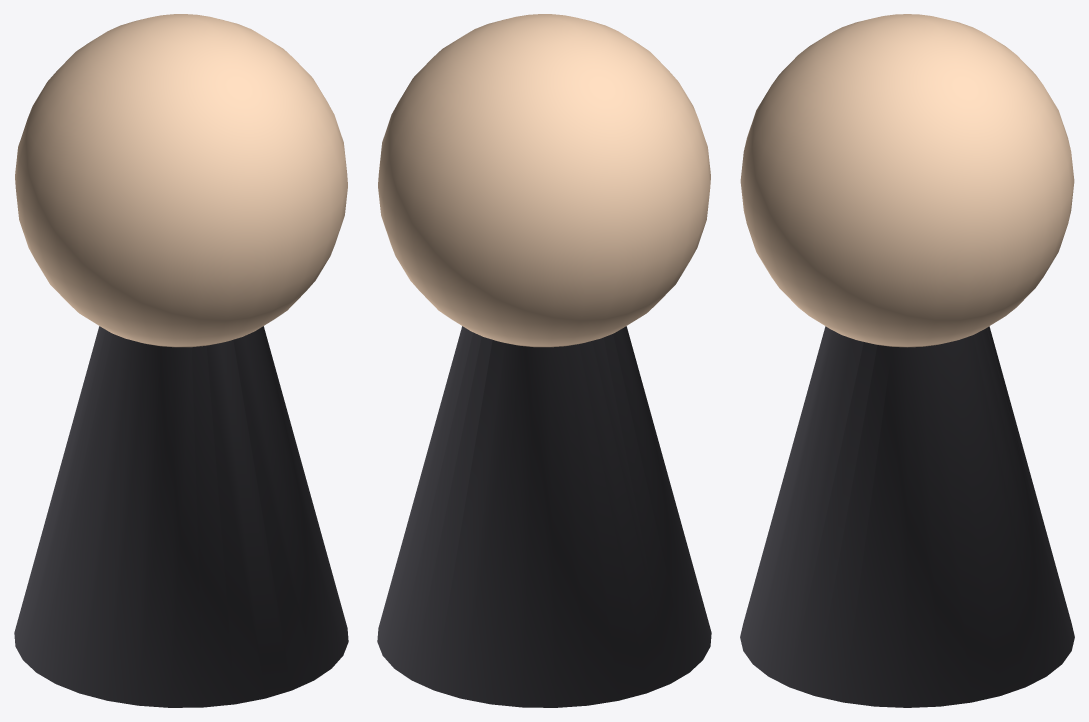
File: player.fbx
3 renders of one model, left to right at view 1: azimuth 30°, elevation 25°; view 2: azimuth 150°, elevation 25°; view 3: azimuth 270°, elevation 25°, orthographic.
Visible parts, largest first — view 1: player; view 2: player; view 3: player.
Boxes of the visible parts, x1=… form: player: x1=14, y1=14, x2=348, y2=707; player: x1=377, y1=14, x2=711, y2=707; player: x1=740, y1=14, x2=1074, y2=707.
Bounding box in the file's own units: 0.8 × 1.6 × 0.8.
